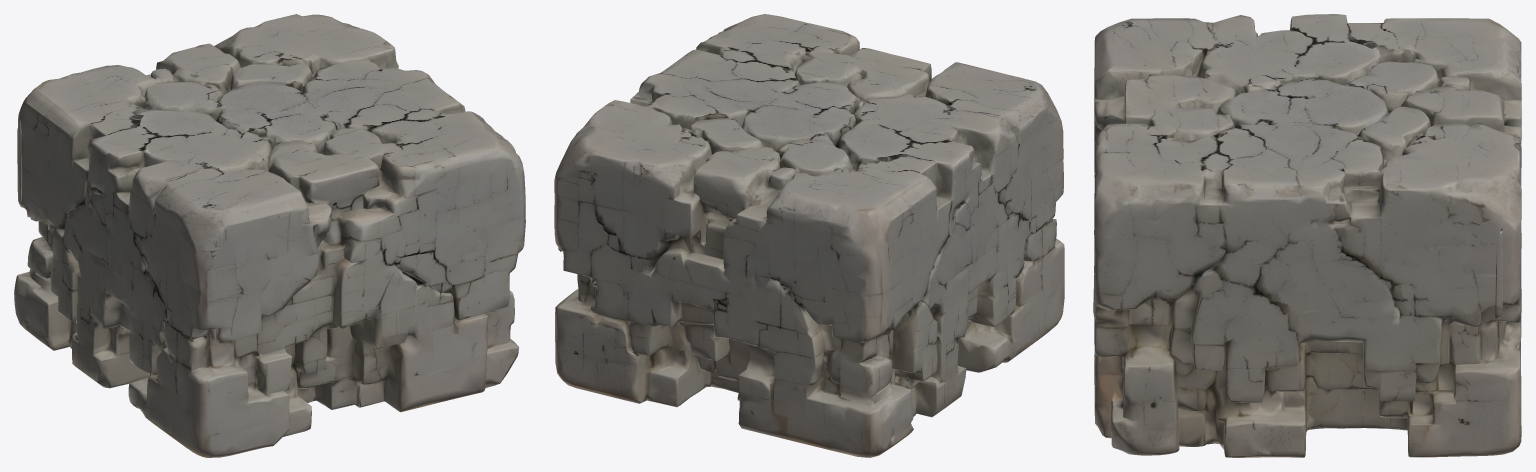
The picture shows the model from 3 angles, left to right: view 1: azimuth 30°, elevation 25°; view 2: azimuth 150°, elevation 25°; view 3: azimuth 270°, elevation 25°; orthographic projection. The views are drawn at different scales.
Visible parts, largest first — view 1: tripo_node_2b613602-3ffd-4bf8-9853-d95ca74cf467; view 2: tripo_node_2b613602-3ffd-4bf8-9853-d95ca74cf467; view 3: tripo_node_2b613602-3ffd-4bf8-9853-d95ca74cf467.
Part boxes in pixels (x1,y1,x2,y2): tripo_node_2b613602-3ffd-4bf8-9853-d95ca74cf467: [14, 14, 525, 457]; tripo_node_2b613602-3ffd-4bf8-9853-d95ca74cf467: [554, 14, 1064, 457]; tripo_node_2b613602-3ffd-4bf8-9853-d95ca74cf467: [1093, 14, 1521, 457].
Size of the model in its own units: 0.9875 by 0.6947 by 1.
Materials: 1 (1 with a texture image).
